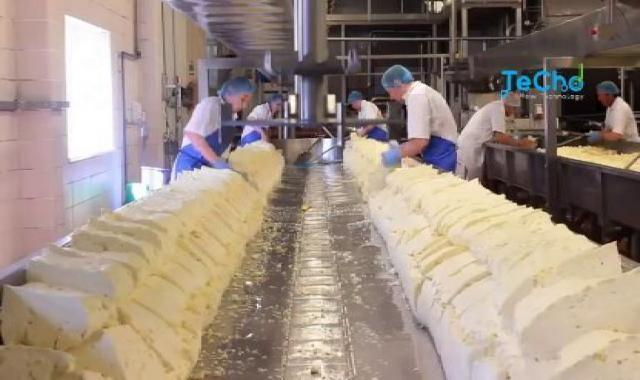apron: (208, 148, 240, 178), (376, 143, 408, 171), (580, 129, 606, 145)
gloves: (208, 75, 257, 104), (375, 67, 425, 94), (595, 83, 622, 103), (502, 91, 526, 113), (346, 89, 368, 107), (270, 95, 293, 108)
no_apron: (519, 135, 542, 152)
no_hairnet: (227, 94, 255, 116), (386, 86, 408, 105), (505, 101, 523, 122), (596, 94, 617, 111), (269, 100, 288, 115), (349, 101, 366, 112)
